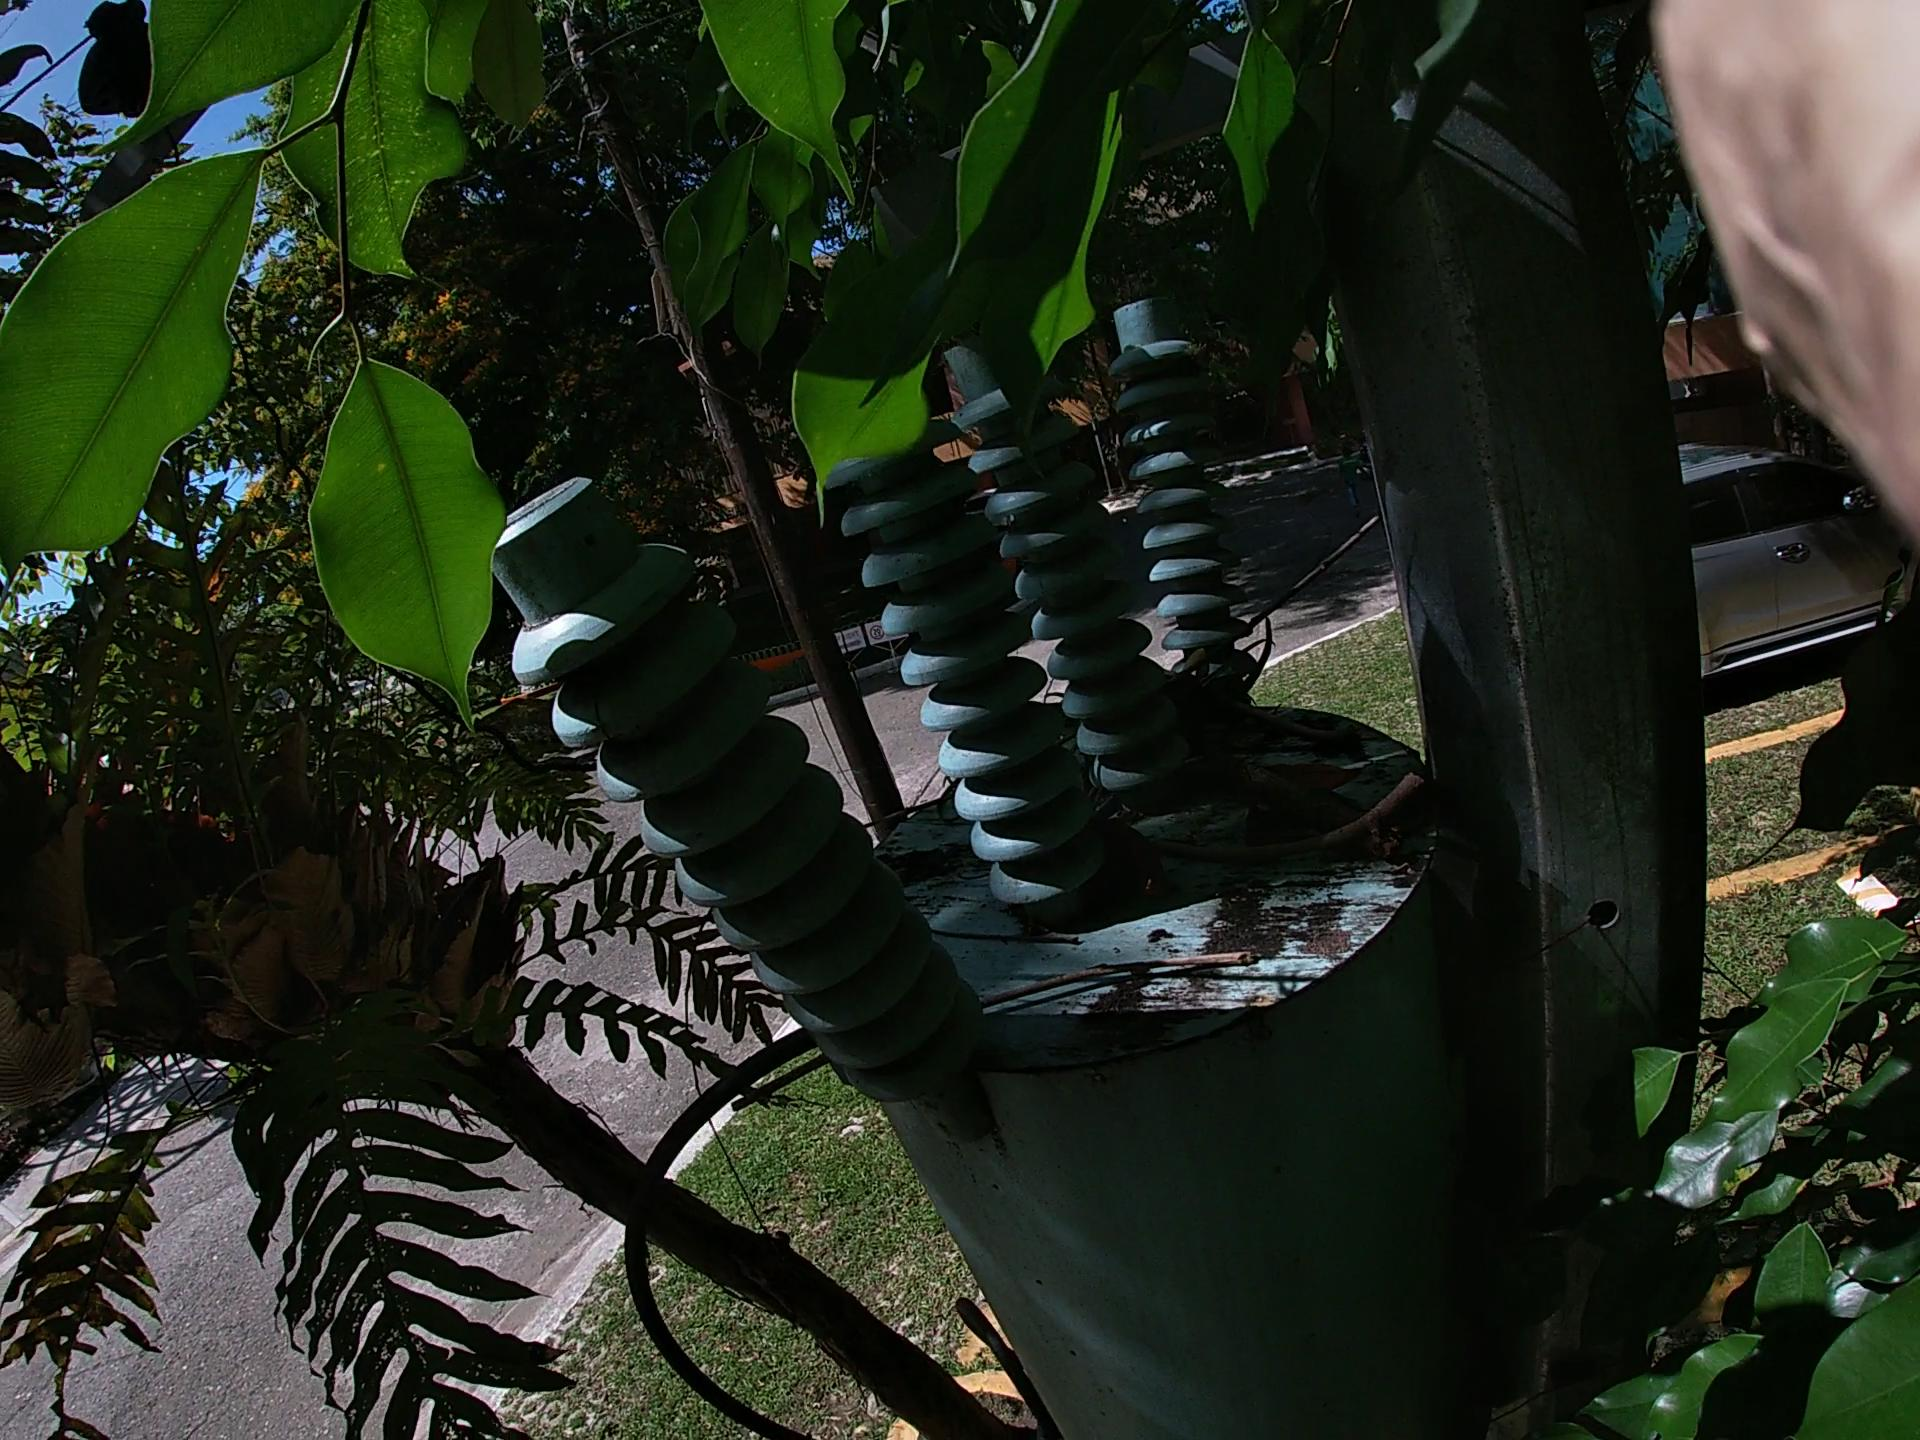leaf: (1243, 690, 1336, 796)
mahogany fruit: (1170, 702, 1261, 753)
tree branch: (537, 362, 1377, 1166), (1161, 675, 1491, 897), (822, 906, 1170, 1050), (1141, 756, 1423, 843)
